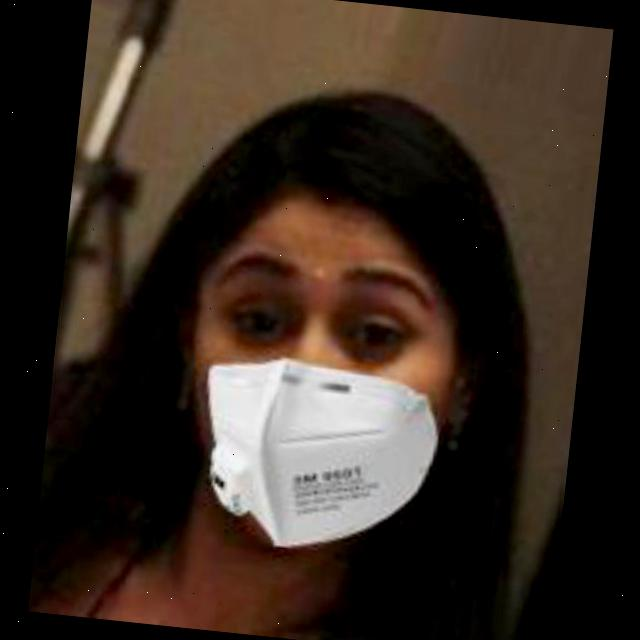suspicion: (162, 90, 522, 555)
